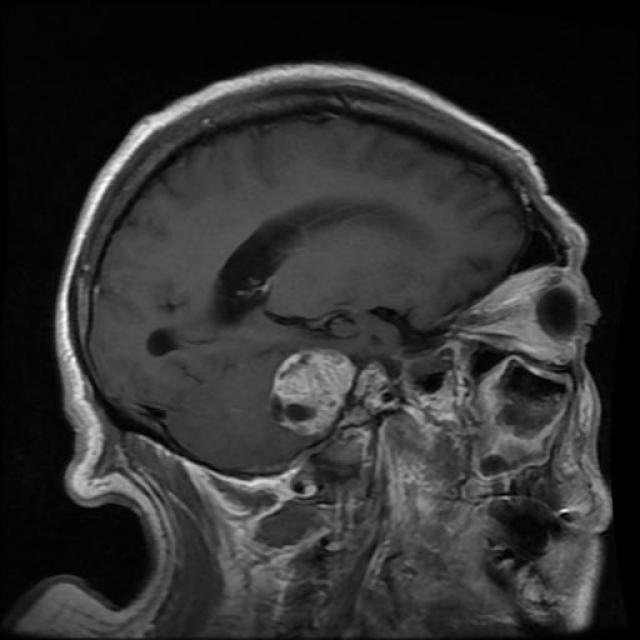meningioma: (272, 349, 356, 436)
